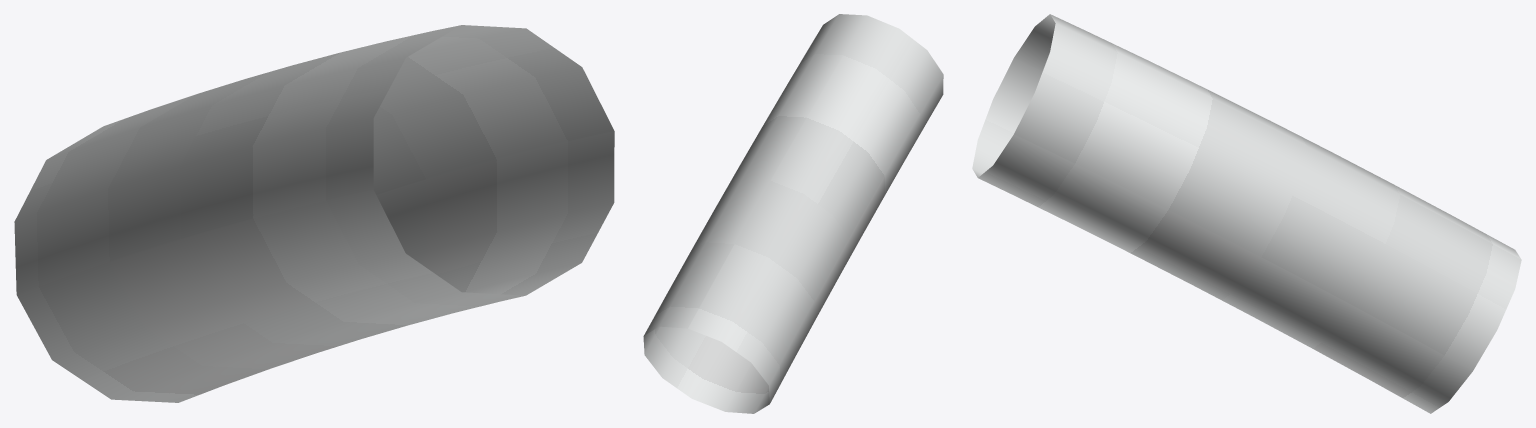
The model's file is luminairearm_truss10ftdouble_c10.obj.
3 renders of one model, left to right at view 1: azimuth 30°, elevation 25°; view 2: azimuth 150°, elevation 25°; view 3: azimuth 270°, elevation 25°, orthographic. The views are drawn at different scales.
Visible parts, largest first — view 1: luminairearm_truss10ftdouble_c10; view 2: luminairearm_truss10ftdouble_c10; view 3: luminairearm_truss10ftdouble_c10.
Boxes of the visible parts, x1,y1,x2,y2 form: luminairearm_truss10ftdouble_c10: (14,25,614,402); luminairearm_truss10ftdouble_c10: (643,14,943,413); luminairearm_truss10ftdouble_c10: (972,14,1521,413).
Bounding box in the file's own units: 0.2192 × 0.4935 × 0.6459.
